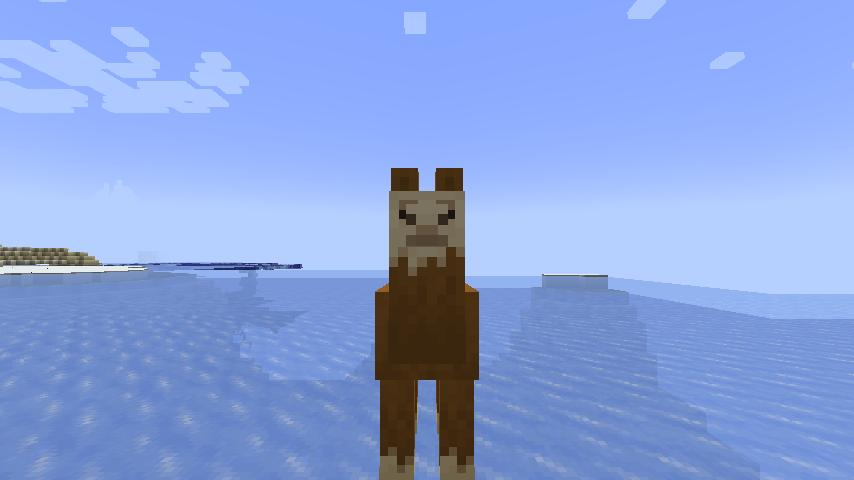llama: (371, 163, 486, 480)
